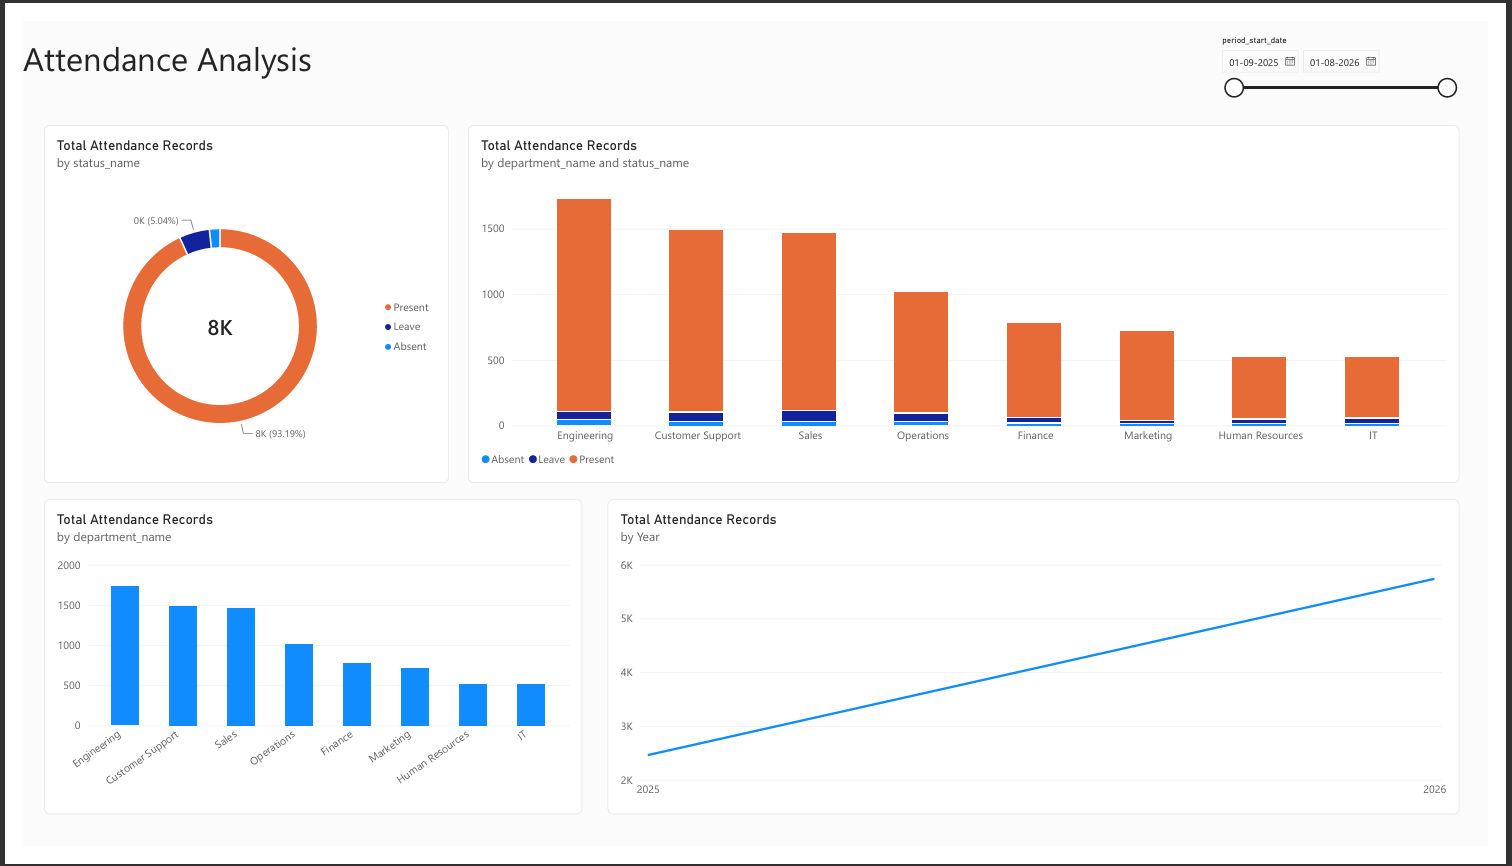

This screenshot's page, from the dashboard's own definition file:
{"tool":"powerbi","page":{"name":"Attendance Analysis","canvas":[1920,1080],"ordinal":2},"visuals":[{"type":"donutChart","fields":{"Category":["public attendance_status.status_name"],"Y":["Measures (3).Total Attendance Records"]},"box":[26.8,135.8,531,469.3],"z":0},{"type":"clusteredColumnChart","fields":{"Category":["public departments.department_name"],"Y":["Measures (3).Total Attendance Records"]},"box":[26.8,625.7,706,413.7],"z":1},{"type":"lineChart","fields":{"Category":["public attendance.attendance_date.Variation.Date Hierarchy.Year","public attendance.attendance_date.Variation.Date Hierarchy.Quarter","public attendance.attendance_date.Variation.Date Hierarchy.Month","public attendance.attendance_date.Variation.Date Hierarchy.Day"],"Y":["Measures (3).Total Attendance Records"]},"box":[765.7,625.7,1117.7,413.7],"z":2},{"type":"columnChart","fields":{"Category":["public departments.department_name"],"Series":["public attendance_status.status_name"],"Y":["Measures (3).Total Attendance Records"]},"box":[582.5,135.8,1300.9,469.3],"z":3},{"type":"slicer","fields":{"Values":["public time_periods.period_start_date"]},"box":[1564.3,18.5,319,84.4],"z":4},{"type":"textbox","box":[0,18.5,531,84.4],"z":5}]}

Visuals, with their boxes in screenshot pixels (x1, y1, x2, y2), scaled from the page's 1920x1080 canvas onto the 1512x866 screenshot:
donutChart - public attendance_status.status_name x Measures (3).Total Attendance Records: 21 109 439 485
clusteredColumnChart - public departments.department_name x Measures (3).Total Attendance Records: 21 502 577 833
lineChart - public attendance.attendance_date.Variation.Date Hierarchy.Year x public attendance.attendance_date.Variation.Date Hierarchy.Quarter: 603 502 1483 833
columnChart - public departments.department_name x public attendance_status.status_name: 459 109 1483 485
slicer - public time_periods.period_start_date: 1232 15 1483 83
textbox: 0 15 418 83
